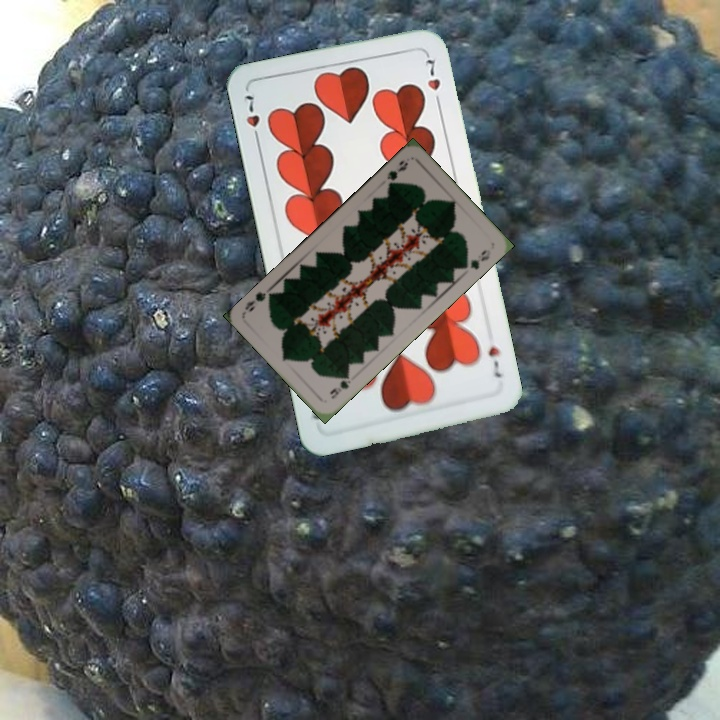G9: (383, 156, 411, 191), (326, 369, 353, 401)
H7: (240, 91, 263, 147), (484, 342, 504, 380)
